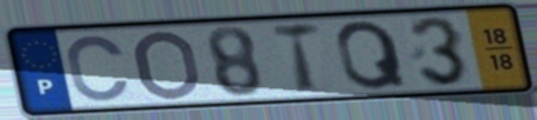3: (405, 14, 473, 90)
8: (204, 24, 267, 99)
C: (63, 33, 134, 104)
O: (132, 28, 204, 102)
Q: (333, 18, 411, 93)
T: (269, 20, 324, 96)
